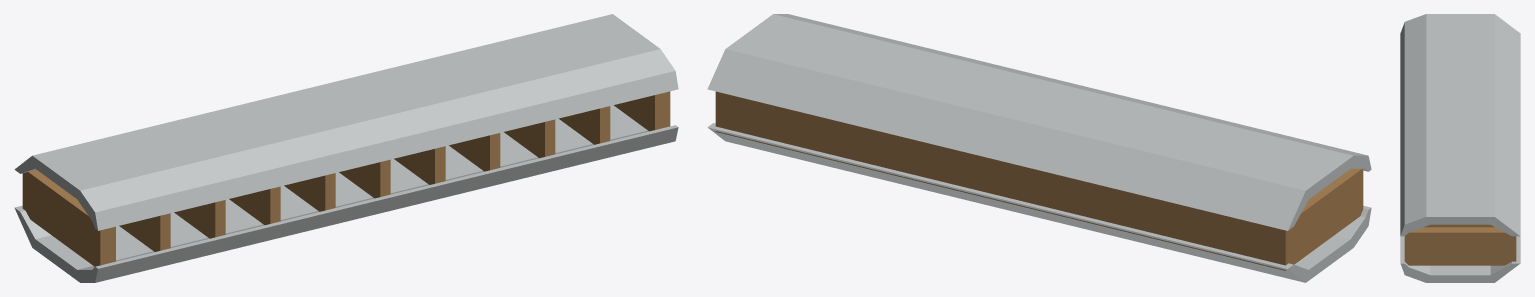
3 views of the same model, side by side, from view 1: azimuth 30°, elevation 25°; view 2: azimuth 150°, elevation 25°; view 3: azimuth 270°, elevation 25° (orthographic). The views are drawn at different scales.
Visible parts, largest first — view 1: WholeUpperCurvedMetalCover, WholeLowerCurvedMetalCover, WholeTenChannelWoodenComb; view 2: WholeUpperCurvedMetalCover, WholeTenChannelWoodenComb, WholeLowerCurvedMetalCover; view 3: WholeUpperCurvedMetalCover, WholeTenChannelWoodenComb, WholeLowerCurvedMetalCover.
Boxes of the visible parts, x1=… form: WholeUpperCurvedMetalCover: x1=14, y1=14, x2=678, y2=230; WholeLowerCurvedMetalCover: x1=14, y1=105, x2=678, y2=282; WholeTenChannelWoodenComb: x1=22, y1=91, x2=670, y2=266; WholeUpperCurvedMetalCover: x1=707, y1=14, x2=1371, y2=230; WholeTenChannelWoodenComb: x1=715, y1=91, x2=1363, y2=270; WholeLowerCurvedMetalCover: x1=707, y1=123, x2=1371, y2=282; WholeUpperCurvedMetalCover: x1=1400, y1=14, x2=1520, y2=236; WholeTenChannelWoodenComb: x1=1404, y1=224, x2=1516, y2=265; WholeLowerCurvedMetalCover: x1=1400, y1=236, x2=1520, y2=282.
Bounding box in the file's own units: 0.112 × 0.017 × 0.028.
